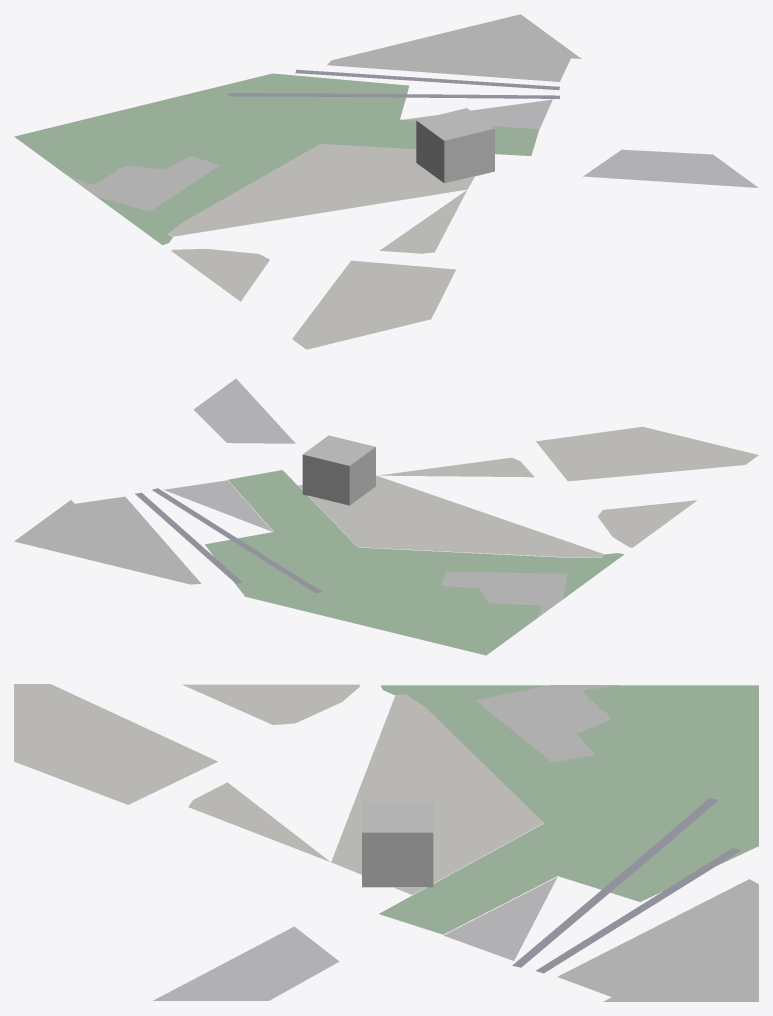
Rendered from 105_86_mid.glb.
The picture shows the model from 3 angles, top to bottom: view 1: azimuth 30°, elevation 25°; view 2: azimuth 150°, elevation 25°; view 3: azimuth 270°, elevation 25°; orthographic projection. The views are drawn at different scales.
Size of the model in its own units: 500 by 41.58 by 500.
